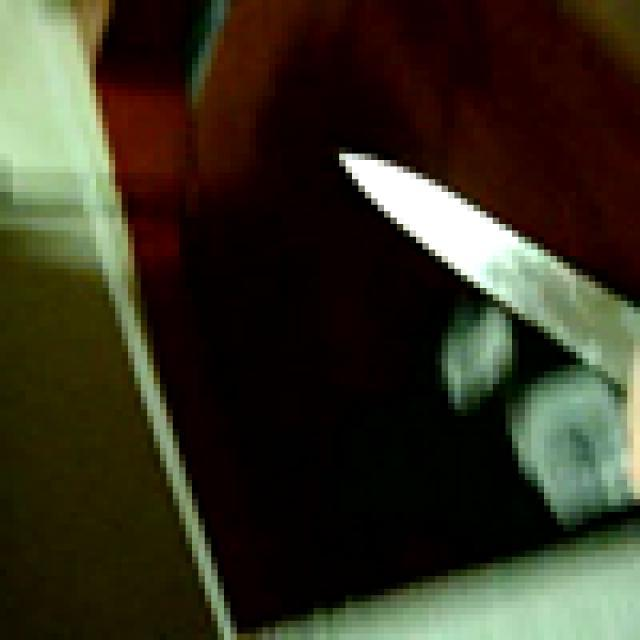Knife: (339, 147, 640, 390)
